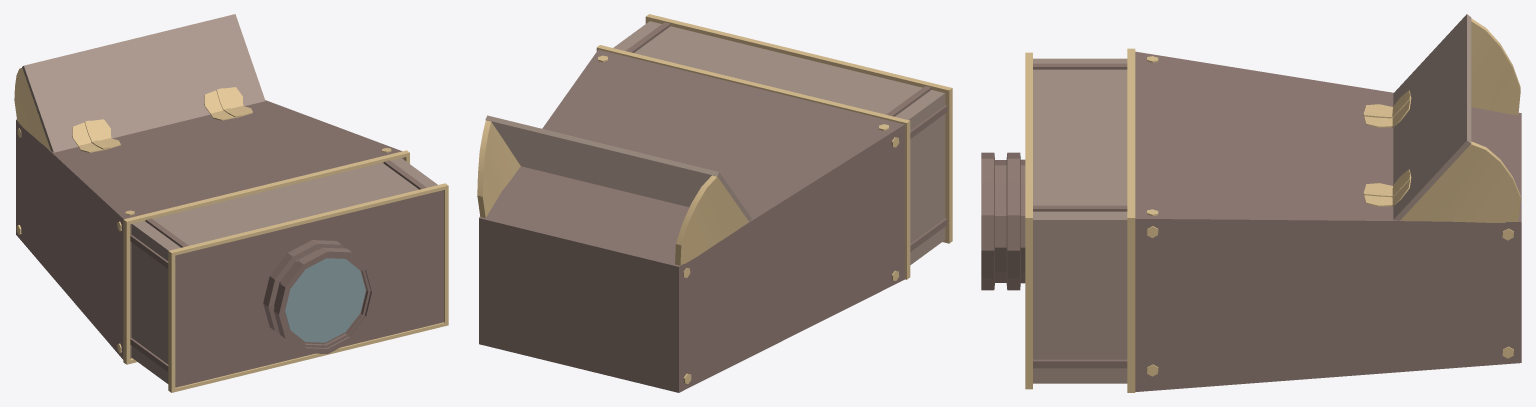
The model's file is Camara.fbx.
The picture shows the model from 3 angles, left to right: view 1: azimuth 30°, elevation 25°; view 2: azimuth 150°, elevation 25°; view 3: azimuth 270°, elevation 25°; orthographic projection. The views are drawn at different scales.
Visible parts, largest first — view 1: polySurface10, polySurface11, polySurface13, polySurface9, Azul1, polySurface16, polySurface12, polySurface22, polySurface14, polySurface20, polySurface19, polySurface17 (+1 smaller); view 2: polySurface10, polySurface9, polySurface13, polySurface14, polySurface16, polySurface22, polySurface15; view 3: polySurface10, polySurface9, polySurface13, polySurface12, polySurface15, polySurface14, polySurface22, polySurface16, polySurface37, polySurface33, polySurface34, polySurface18 (+1 smaller).
Boxes of the visible parts, box(x1,y1,x2,y2) form: polySurface10: box(16, 100, 404, 359); polySurface11: box(175, 190, 443, 387); polySurface13: box(22, 14, 265, 152); polySurface9: box(131, 158, 437, 383); Azul1: box(285, 258, 365, 342); polySurface16: box(168, 183, 448, 392); polySurface12: box(263, 240, 376, 353); polySurface22: box(123, 150, 409, 364); polySurface14: box(14, 68, 50, 150); polySurface20: box(204, 87, 243, 114); polySurface19: box(72, 119, 111, 146); polySurface17: box(78, 138, 120, 152); polySurface10: box(479, 49, 904, 392); polySurface9: box(613, 21, 945, 264); polySurface13: box(485, 115, 751, 221); polySurface14: box(675, 175, 748, 265); polySurface16: box(645, 14, 952, 243); polySurface22: box(596, 45, 910, 279); polySurface15: box(477, 120, 520, 217); polySurface10: box(1135, 51, 1521, 391); polySurface9: box(1033, 58, 1127, 383); polySurface13: box(1393, 14, 1471, 220); polySurface12: box(981, 152, 1025, 290); polySurface15: box(1400, 141, 1520, 222); polySurface14: box(1471, 18, 1520, 115); polySurface22: box(1127, 48, 1135, 392); polySurface16: box(1025, 52, 1032, 389); polySurface37: box(1033, 359, 1127, 368); polySurface33: box(1033, 63, 1127, 69); polySurface34: box(1033, 205, 1127, 211); polySurface18: box(1363, 183, 1392, 206).
Size of the model in its own units: 8.09 by 5.15 by 10.91.
